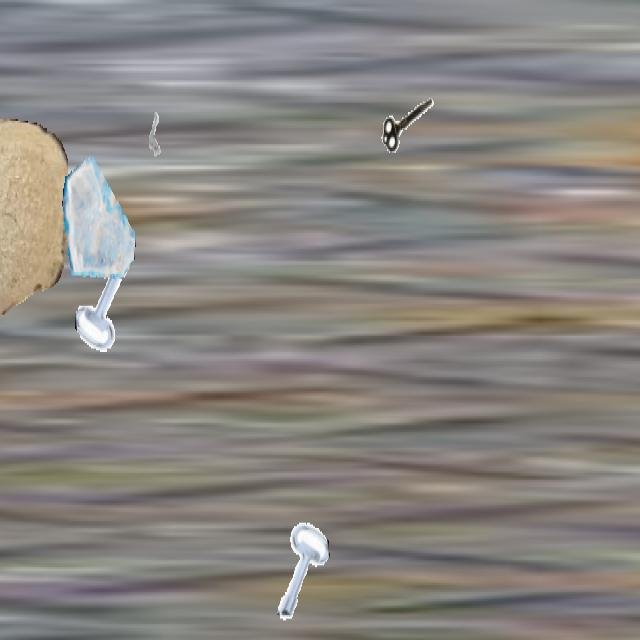glass: (62, 151, 136, 283)
metal: (75, 247, 137, 357), (270, 516, 330, 622), (379, 74, 437, 178), (136, 92, 174, 160)
wood: (0, 119, 67, 336)
